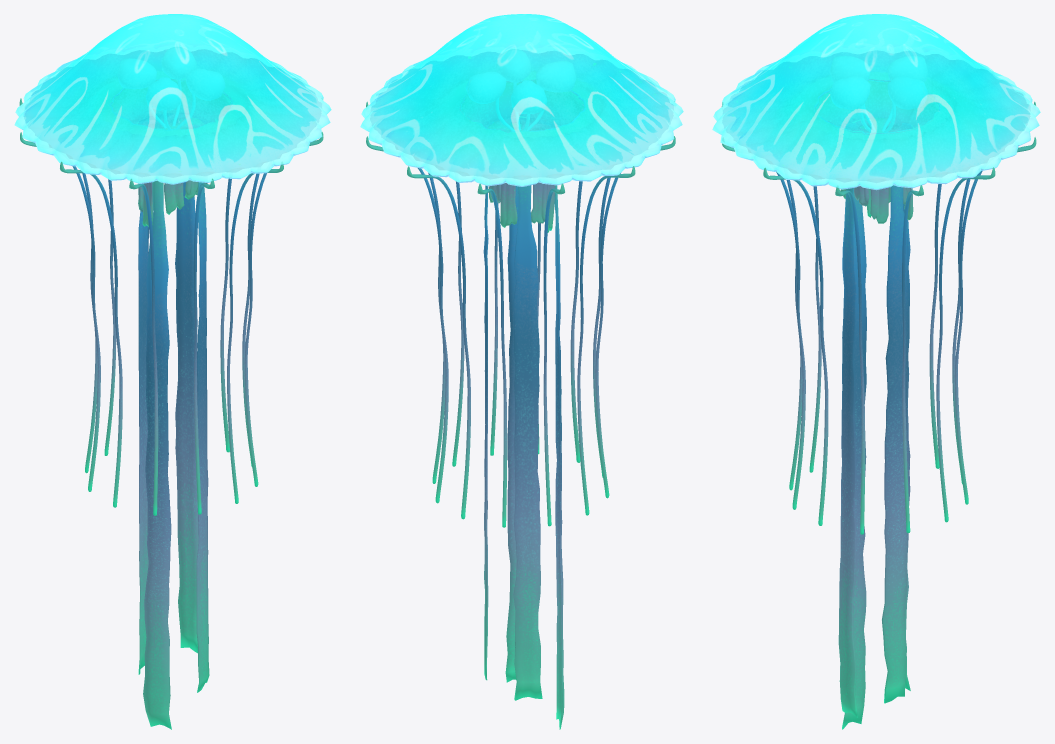
The model's file is jellyfish_model-v1.glb.
3 renders of one model, left to right at view 1: azimuth 30°, elevation 25°; view 2: azimuth 150°, elevation 25°; view 3: azimuth 270°, elevation 25°, orthographic. The views are drawn at different scales.
Parts seen in each view (by area): view 1: Object02_01 - Default_0, Object004_03 - Default_0, Object003_02 - Default_0; view 2: Object02_01 - Default_0, Object004_03 - Default_0, Object003_02 - Default_0; view 3: Object02_01 - Default_0, Object004_03 - Default_0, Object003_02 - Default_0.
Boxes of the visible parts, x1,y1,x2,y2 form: Object02_01 - Default_0: (19, 49, 323, 729); Object004_03 - Default_0: (14, 14, 331, 184); Object003_02 - Default_0: (117, 47, 224, 129); Object02_01 - Default_0: (366, 50, 675, 729); Object004_03 - Default_0: (360, 14, 683, 186); Object003_02 - Default_0: (466, 49, 575, 130); Object02_01 - Default_0: (721, 50, 1036, 729); Object004_03 - Default_0: (712, 14, 1040, 190); Object003_02 - Default_0: (830, 56, 927, 132).
Bounding box in the file's own units: 16.92 × 41.42 × 17.21.
2 materials, 2 textured.
